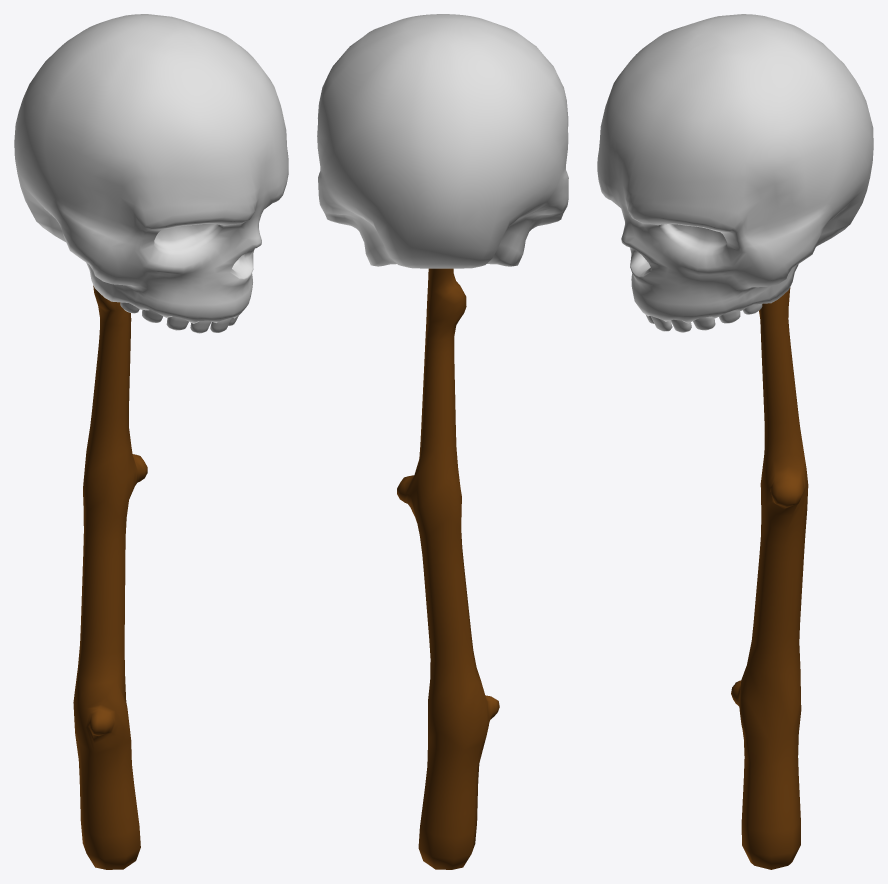
File: SkullOnStickV2.fbx
The picture shows the model from 3 angles, left to right: view 1: azimuth 30°, elevation 25°; view 2: azimuth 150°, elevation 25°; view 3: azimuth 270°, elevation 25°; orthographic projection. The views are drawn at different scales.
Visible parts, largest first — view 1: Plane; view 2: Plane; view 3: Plane.
Part boxes in pixels (x1,y1,x2,y2): Plane: (14, 14, 288, 869); Plane: (317, 14, 568, 869); Plane: (597, 14, 873, 869).
Bounding box in the file's own units: 47.32 × 166 × 48.93.
